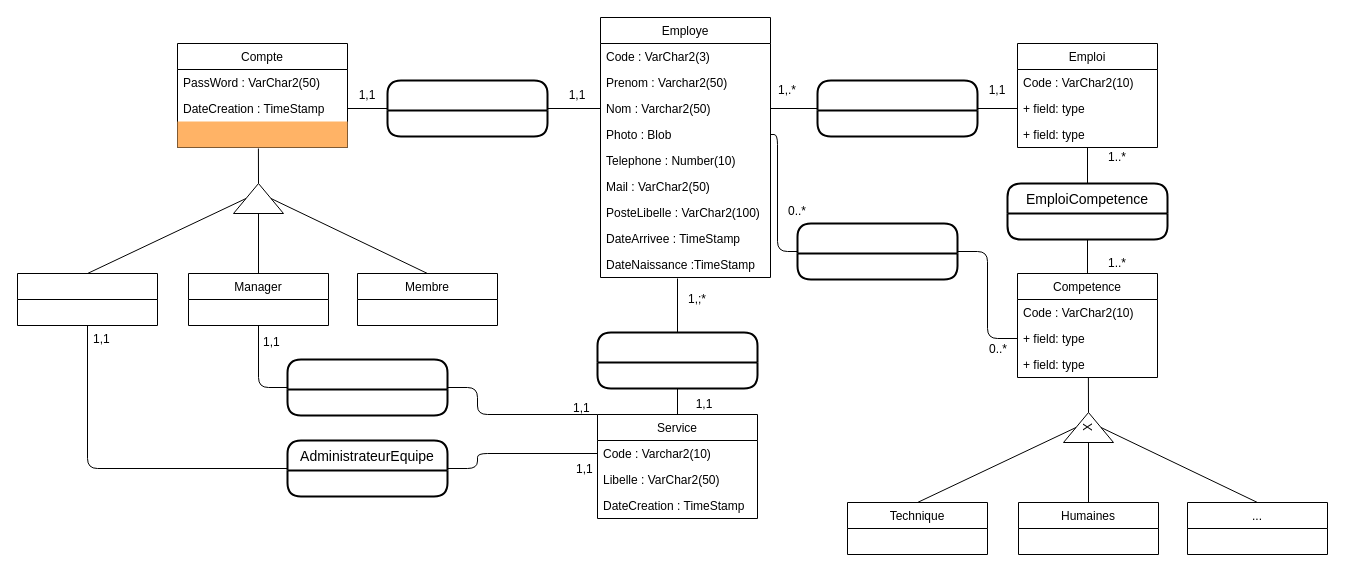
The diagram is 1345 pixels wide and 572 high, and some of its shapes have lost their labels. Here are the shapes that lost their labels. From the top down, the centre of each, then its label:
At point (467, 108): "EmployeCompte".
At point (897, 108): "EmployeEmploi".
At point (262, 134): "DateMaj : TimeStamp".
At point (877, 251): "EmployeCompetence".
At point (87, 299): "Administrateur".
At point (677, 360): "EmployeService".
At point (367, 387): "ManagerEquipe".
